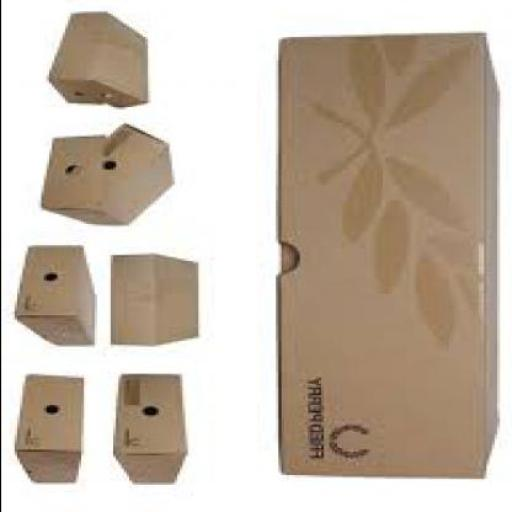cardboard: (280, 36, 502, 478), (43, 127, 176, 225), (50, 14, 149, 110), (112, 258, 201, 348), (115, 378, 189, 486), (18, 247, 98, 346), (16, 378, 87, 485), (102, 127, 176, 225)
